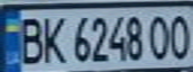2: (87, 12, 112, 63)
4: (109, 11, 130, 62)
6: (69, 12, 93, 64)
8: (124, 11, 148, 62)
B: (12, 14, 48, 65)
K: (36, 12, 69, 65)
O: (166, 10, 193, 61), (145, 11, 172, 61)
